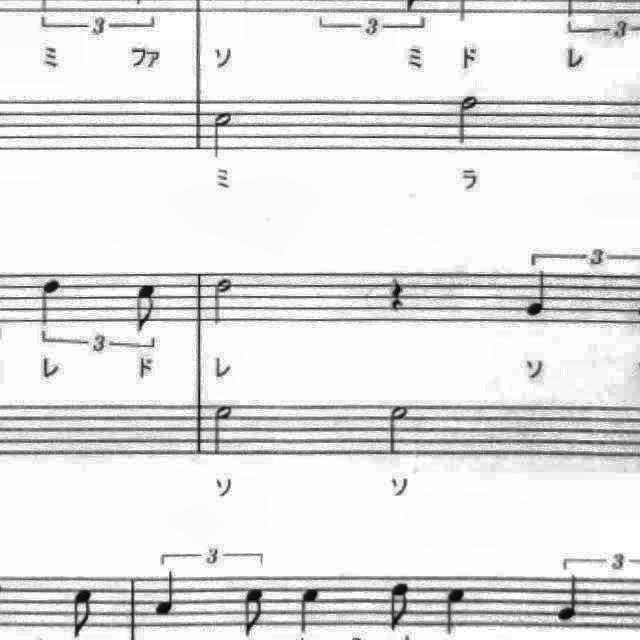Eighth-note: (128, 277, 166, 339), (62, 584, 101, 640), (382, 576, 418, 636), (233, 583, 270, 640)
Half-note: (206, 398, 242, 462), (206, 104, 242, 164), (452, 87, 484, 149), (380, 400, 412, 460), (206, 275, 238, 333)
Quarter-note: (550, 568, 594, 626), (32, 274, 68, 334), (438, 580, 474, 638), (294, 580, 330, 636), (520, 266, 556, 322), (150, 567, 186, 621)
Quarter-rest: (381, 269, 411, 317)
